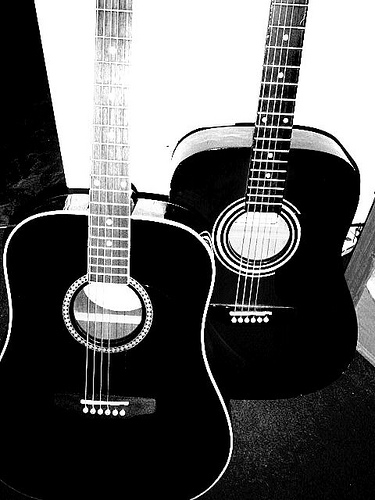guitar: (1, 1, 234, 500), (162, 1, 362, 402)
